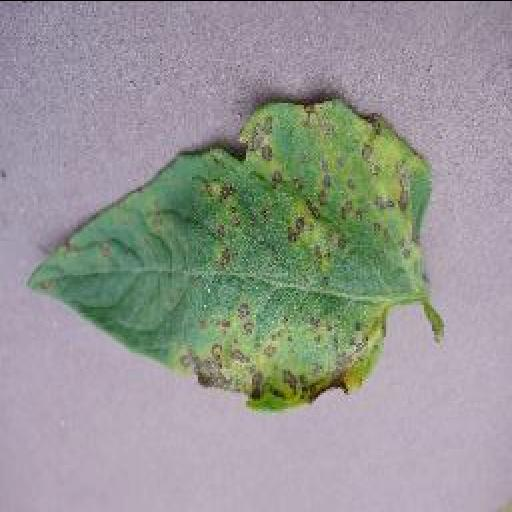disease_tomato: (24, 92, 434, 412)
